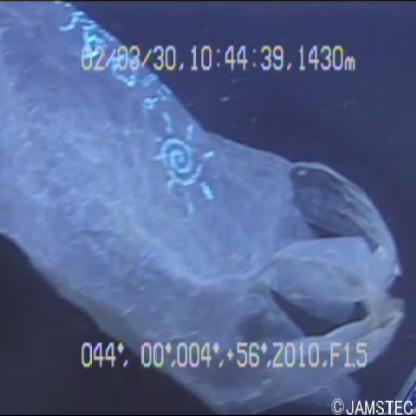Rác: (1, 1, 415, 416)
